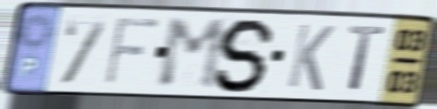7: (60, 13, 110, 87)
F: (101, 15, 163, 88)
K: (284, 21, 337, 94)
M: (156, 17, 230, 92)
S: (212, 16, 280, 95)
T: (347, 23, 389, 95)
